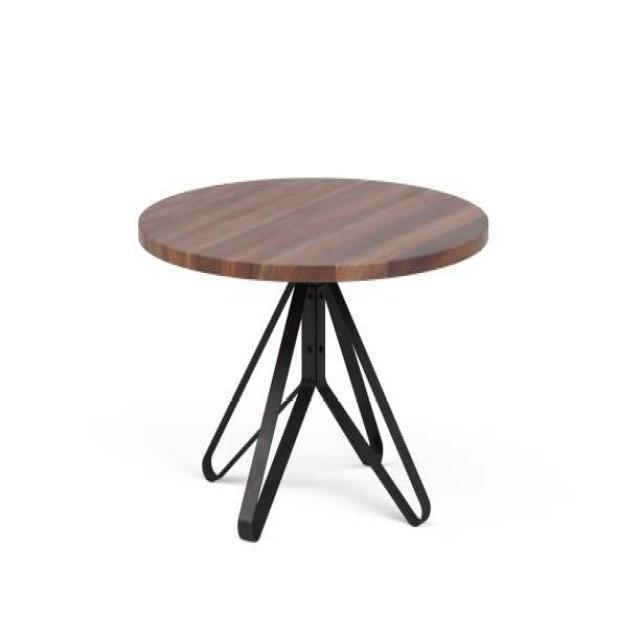table: (136, 174, 488, 541)
